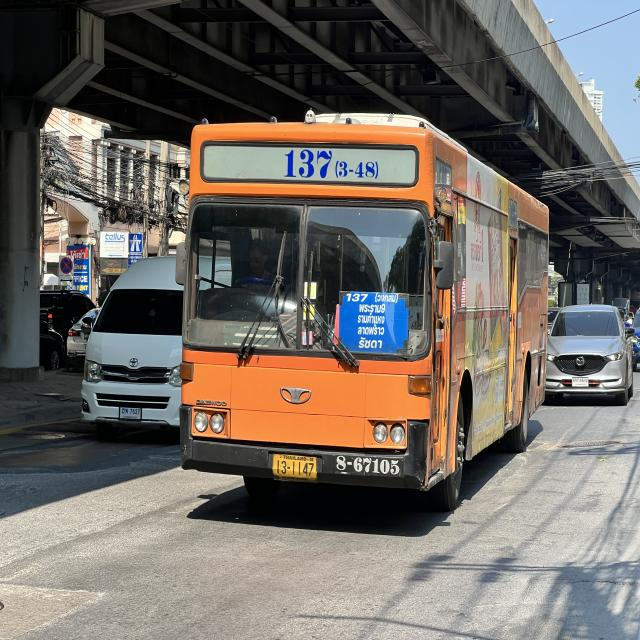BMTA-bus: (178, 116, 552, 512)
Bus-Line-Number: (280, 142, 386, 186)
Destination-Sign-Normal: (340, 292, 408, 356)
